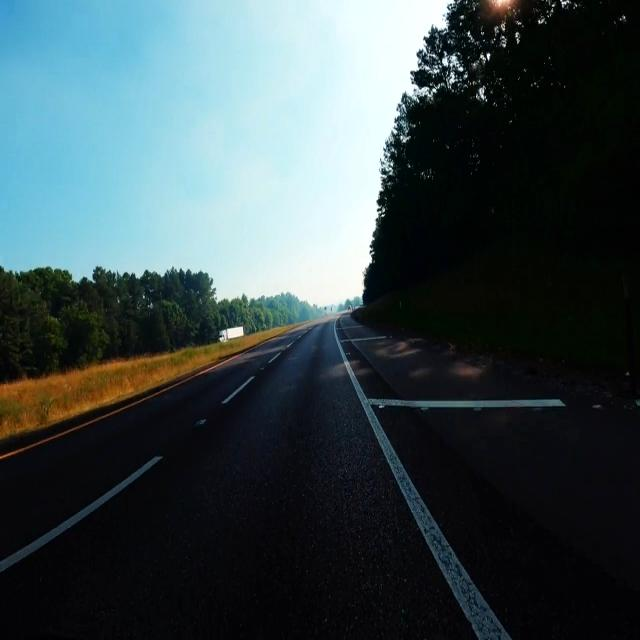road: (0, 321, 474, 637), (376, 408, 640, 636)
